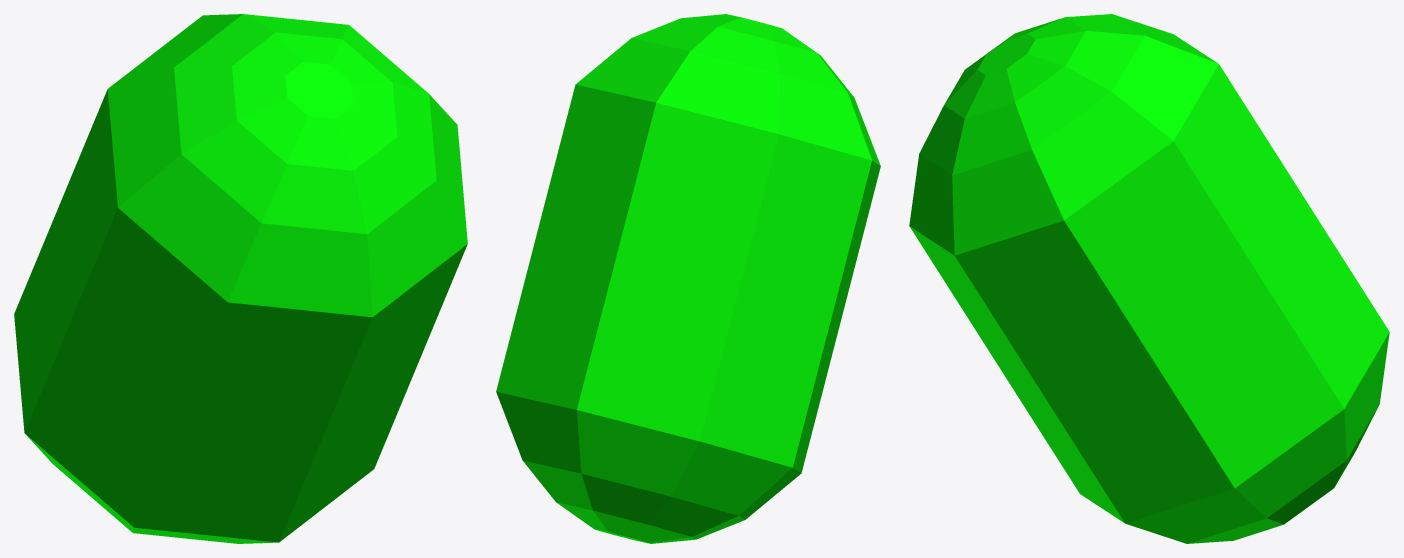
The model's file is stamina_pickup.glb.
The picture shows the model from 3 angles, left to right: view 1: azimuth 30°, elevation 25°; view 2: azimuth 150°, elevation 25°; view 3: azimuth 270°, elevation 25°; orthographic projection. The views are drawn at different scales.
Parts seen in each view (by area): view 1: Cylinder.001; view 2: Cylinder.001; view 3: Cylinder.001.
Boxes of the visible parts, x1,y1,x2,y2 form: Cylinder.001: [14, 14, 467, 543]; Cylinder.001: [496, 14, 880, 543]; Cylinder.001: [909, 14, 1389, 543].
Bounding box in the file's own units: 2.2 × 3.37 × 2.96.
